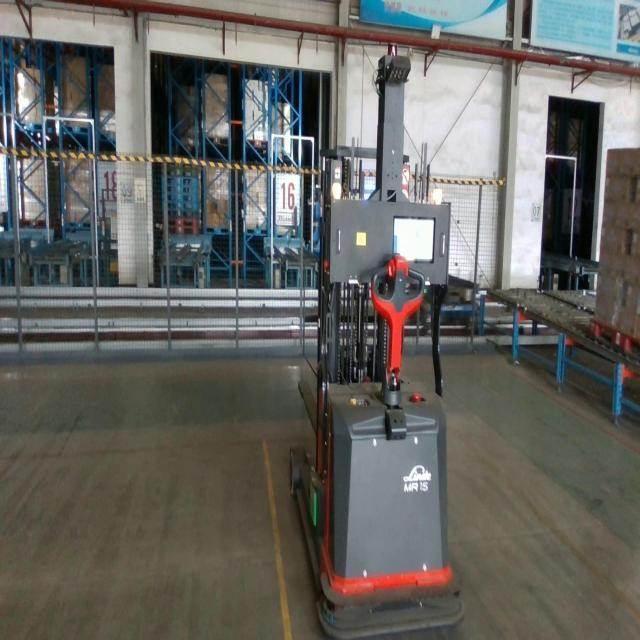forklift: (288, 41, 467, 640)
